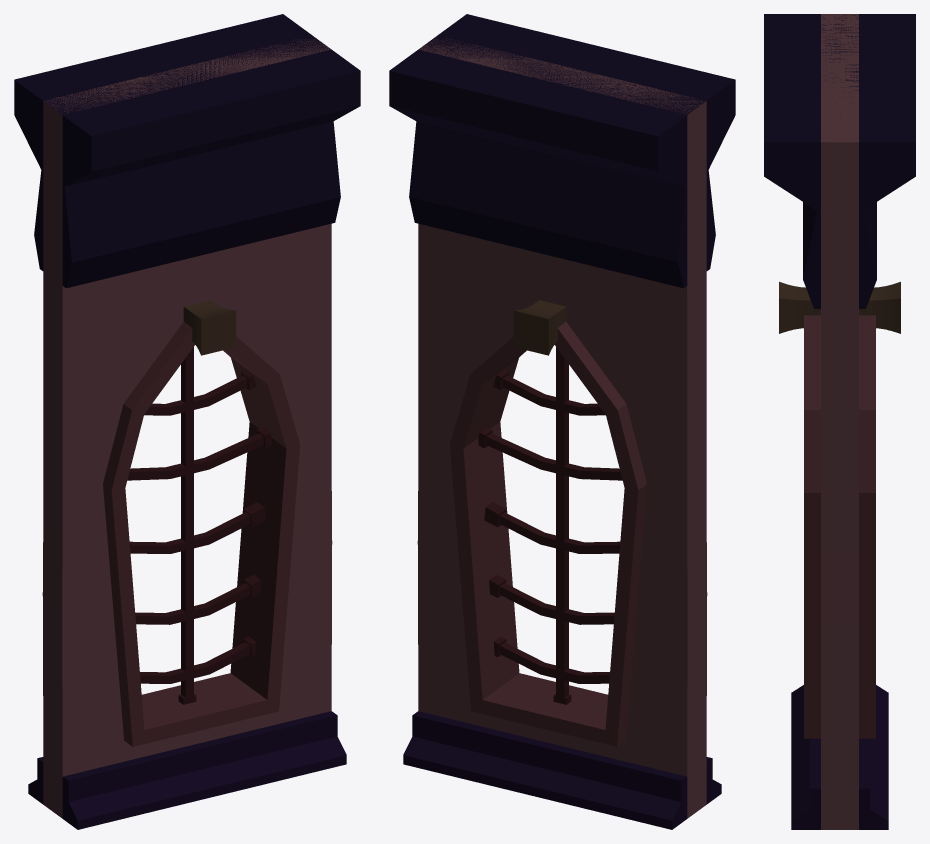
Rendered from Fenster.fbx.
3 views of the same model, side by side, from view 1: azimuth 30°, elevation 25°; view 2: azimuth 150°, elevation 25°; view 3: azimuth 270°, elevation 25° (orthographic). The views are drawn at different scales.
Visible parts, largest first — view 1: Cube.004, Cube.023, Cube.021; view 2: Cube.004, Cube.023, Cube.021; view 3: Cube.004, Cube.023, Cube.021.
Boxes of the visible parts, x1,y1,x2,y2 form: Cube.004: (42, 39, 332, 818); Cube.023: (14, 14, 360, 288); Cube.021: (28, 711, 346, 829); Cube.004: (417, 38, 707, 818); Cube.023: (389, 14, 735, 288); Cube.021: (403, 711, 721, 829); Cube.004: (779, 14, 900, 829); Cube.023: (764, 14, 915, 308); Cube.021: (791, 685, 888, 829).
Bounding box in the file's own units: 401 × 1000 × 200.
